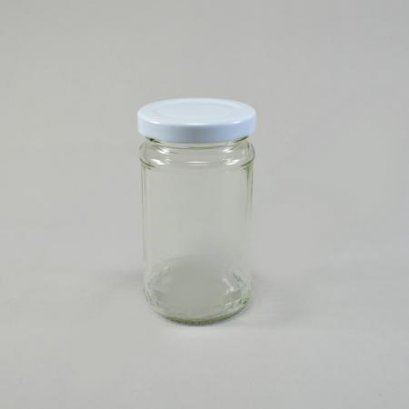glass_bottle: (132, 93, 260, 328)
